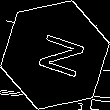N_W: (26, 28, 84, 82)
